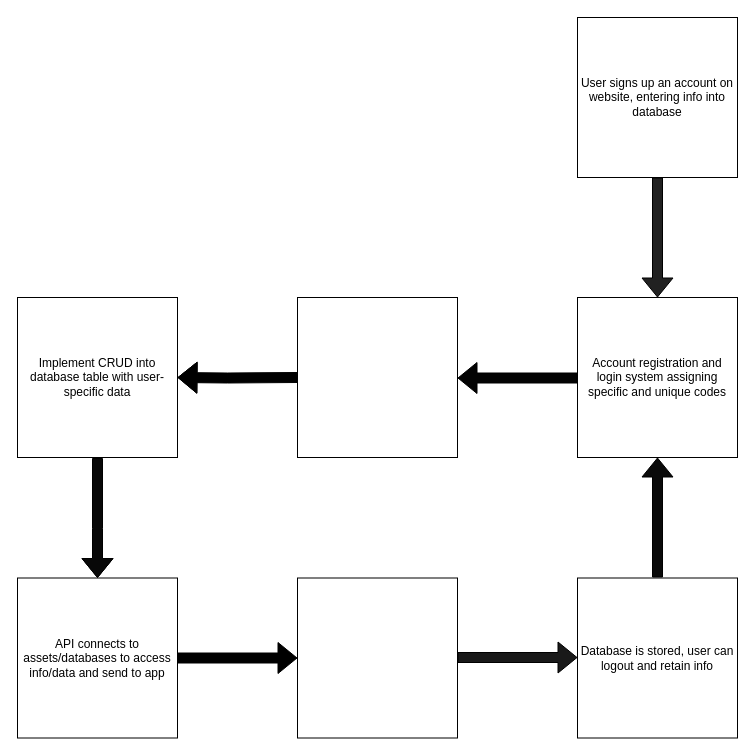
This 755x756 diagram has some shape labels left out. Here are the shapes that lost their labels. From the top down, the centre of each, then its label:
the point at 377,377: Unique code being used in account database table, displaying user information
the point at 377,657: User updates info, connects to API, sent to database
